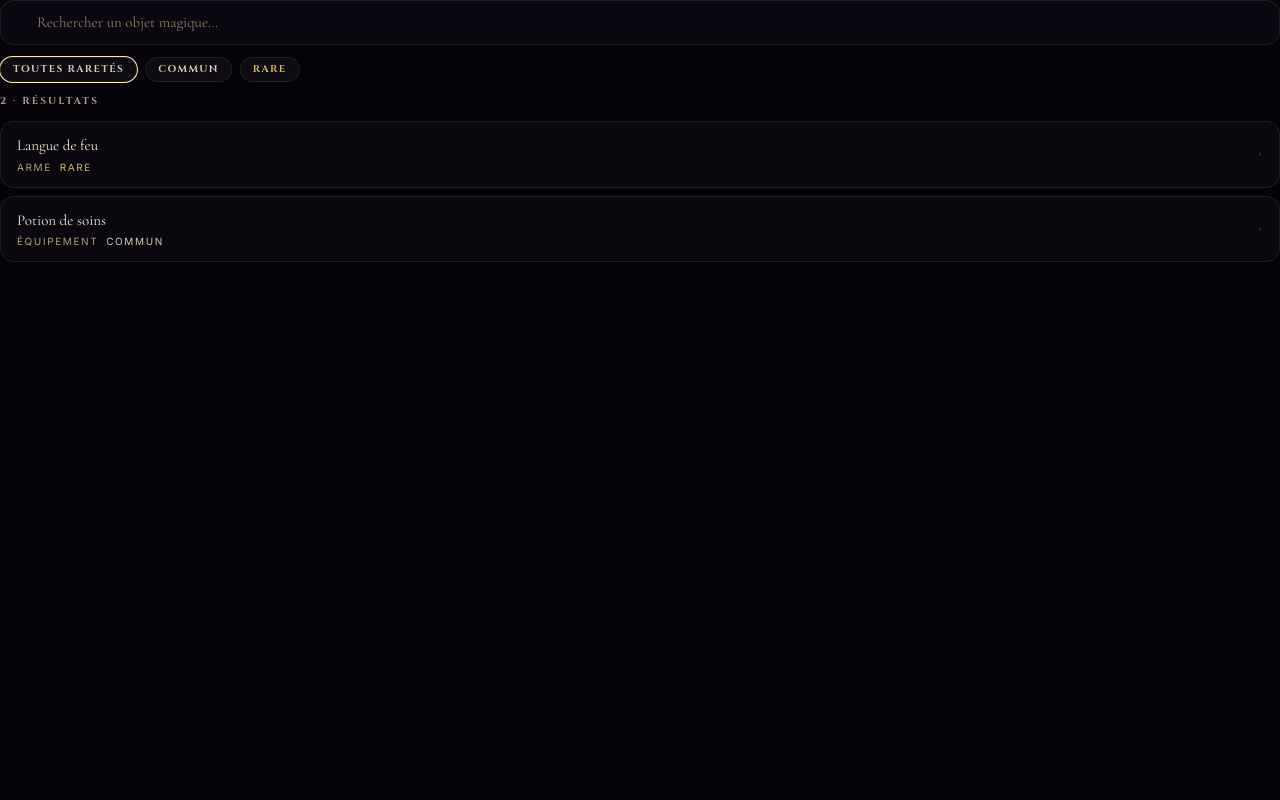
Test case: MagicItemBrowser (Codex) › modale : catégorie · rareté + harmonisation + description exactes
Click the text "Langue de feu". click: (58, 145)
box: [17,136,98,154]
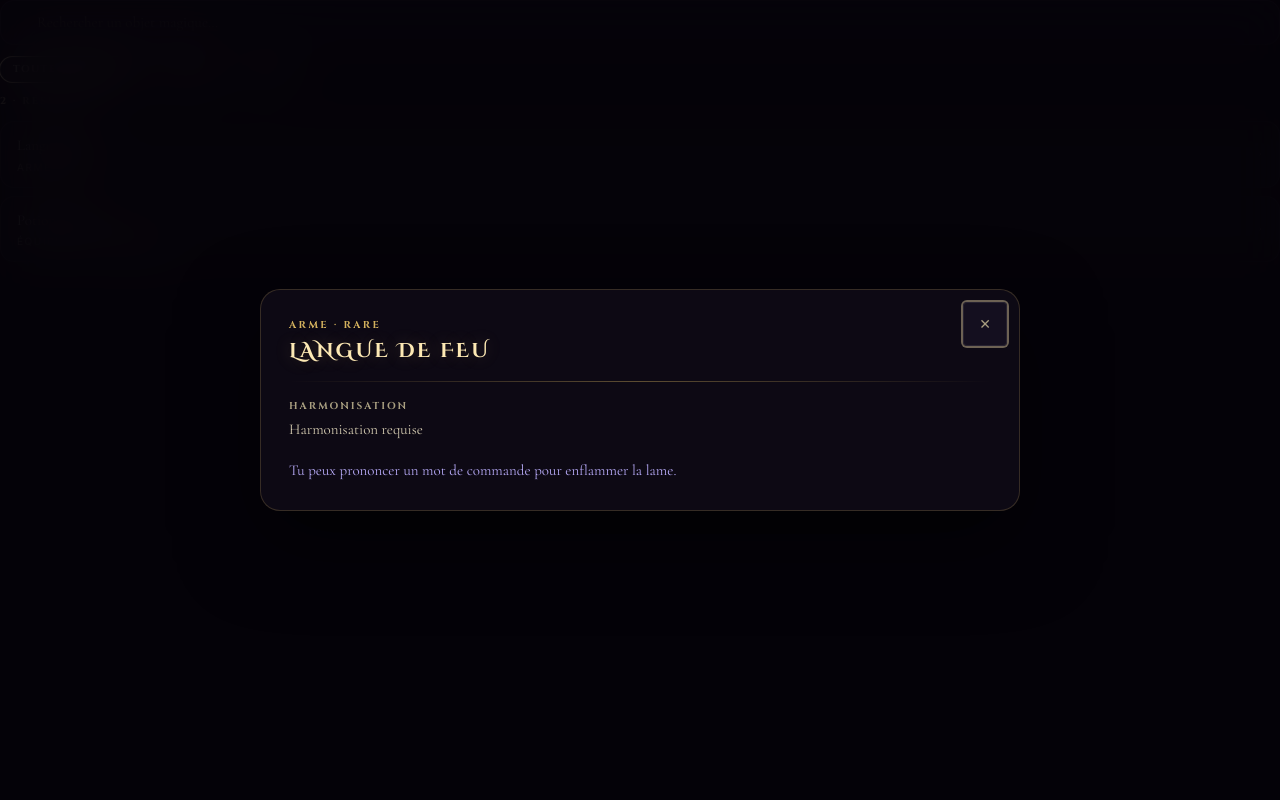
Expected: the text "Arme · Rare" is shown, [289,318,381,332]
Expected: the text "Harmonisation requise" is shown, [289,420,423,438]
Expected: the text "Tu peux prononcer un mot de commande pour enflammer la lame." is shown, [289,461,676,479]
